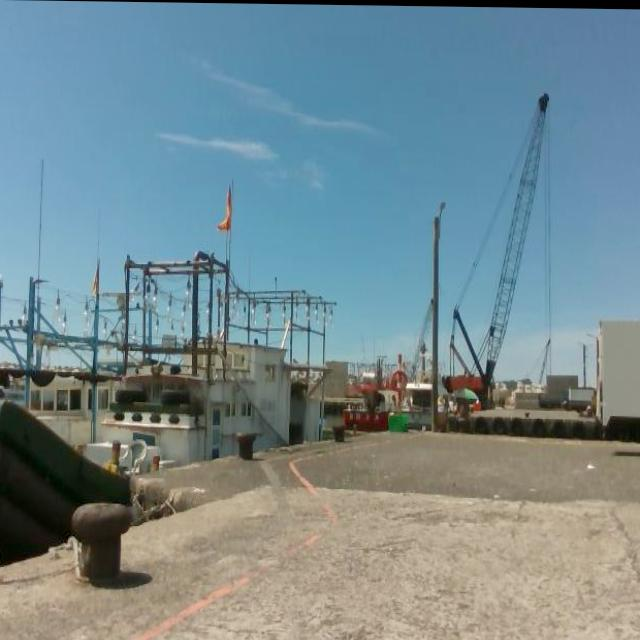pollute: (585, 461, 596, 468)
